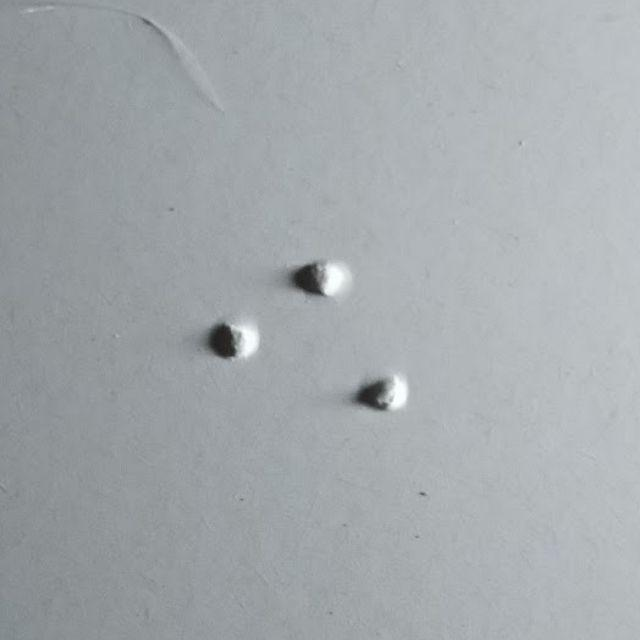dot_5: (149, 258, 260, 412)
kabila: (297, 259, 409, 413)
